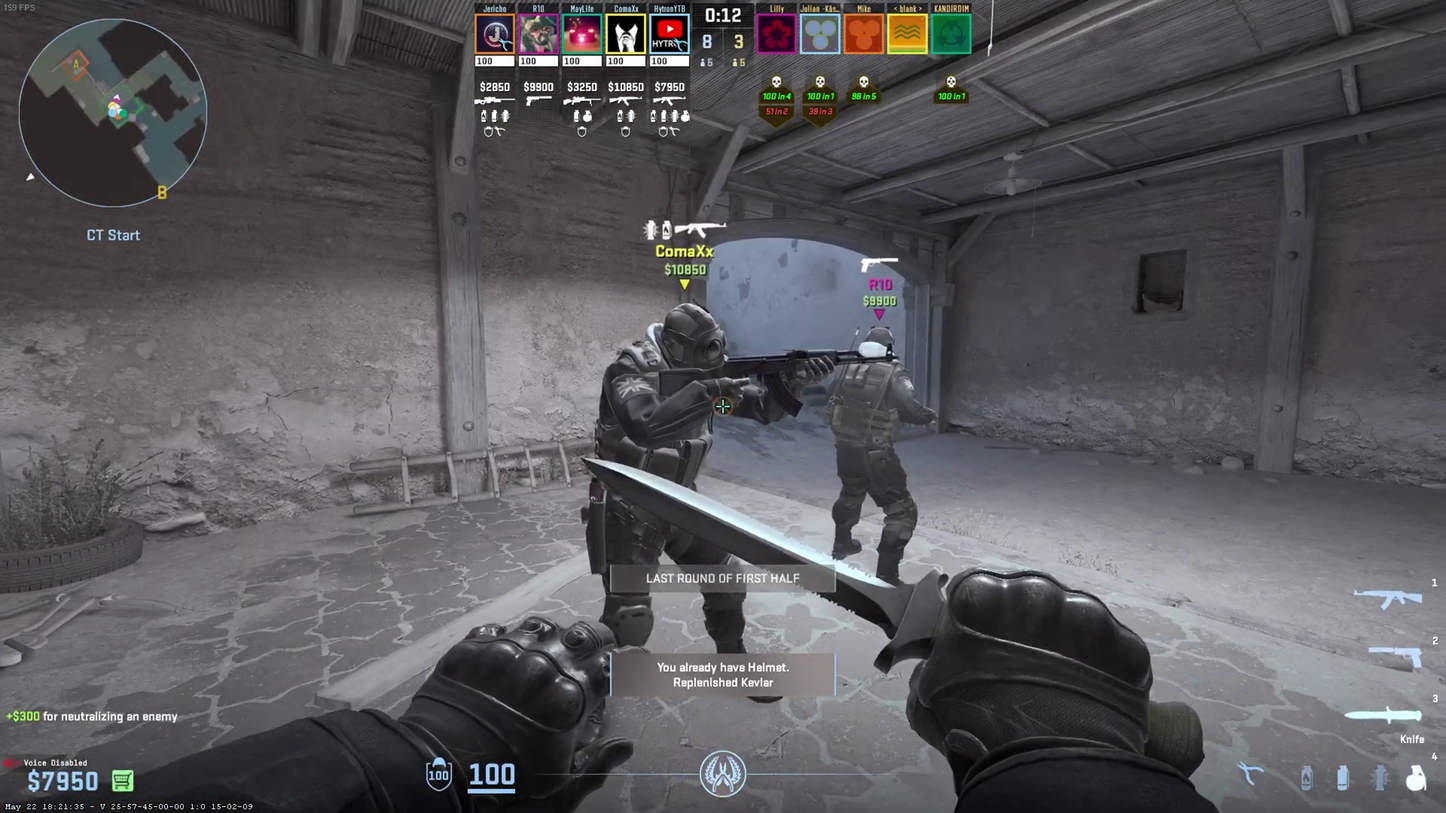CT: (592, 303, 750, 654), (833, 327, 918, 580)
